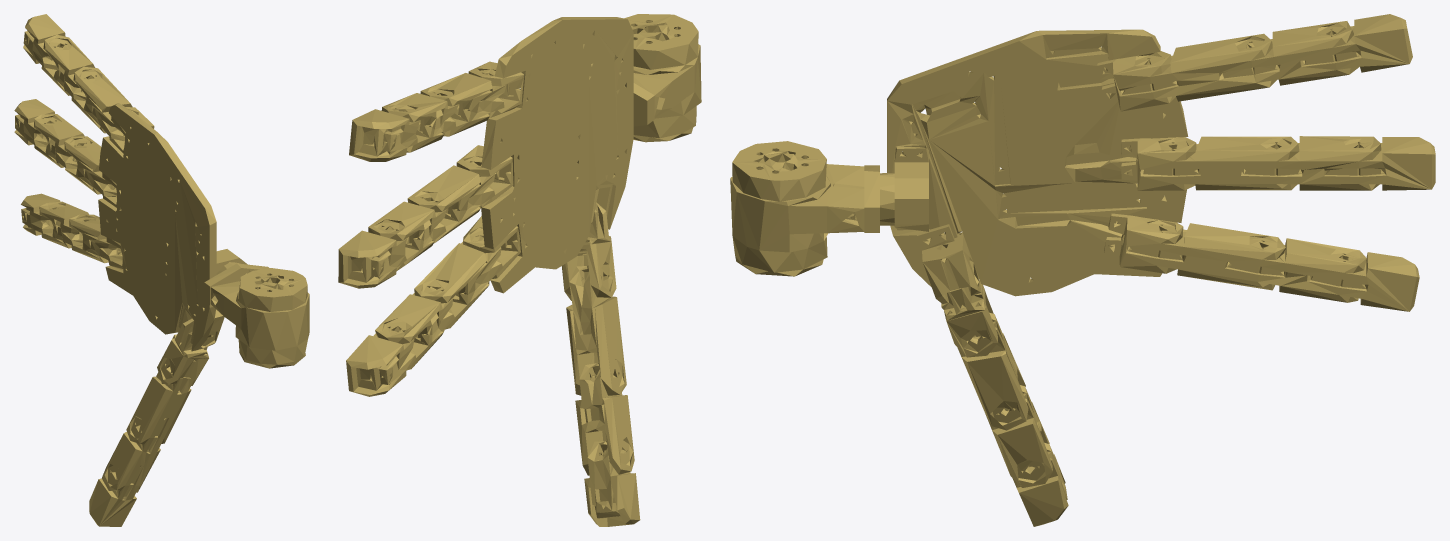
File: l_wrist_flection.dae
3 views of the same model, side by side, from view 1: azimuth 30°, elevation 25°; view 2: azimuth 150°, elevation 25°; view 3: azimuth 270°, elevation 25° (orthographic). The views are drawn at different scales.
Visible parts, largest first — view 1: M7L; view 2: M7L; view 3: M7L.
Part boxes in pixels (x1=…): M7L: x1=14, y1=14, x2=309, y2=526; M7L: x1=338, y1=14, x2=701, y2=526; M7L: x1=730, y1=14, x2=1435, y2=526.
Bounding box in the file's own units: 0.0576 × 0.2264 × 0.1914.
